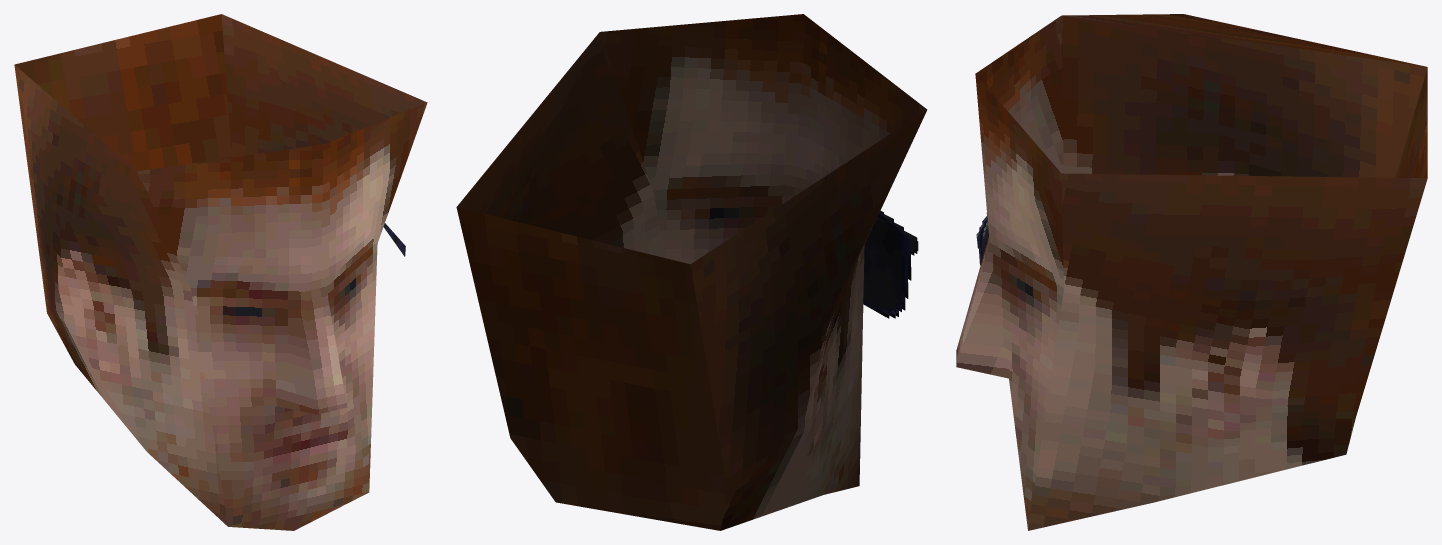
The model's file is CheadduncanZ.obj.
The picture shows the model from 3 angles, left to right: view 1: azimuth 30°, elevation 25°; view 2: azimuth 150°, elevation 25°; view 3: azimuth 270°, elevation 25°; orthographic projection. The views are drawn at different scales.
Size of the model in its own units: 154 by 236 by 197.
6 materials, 6 textured.
